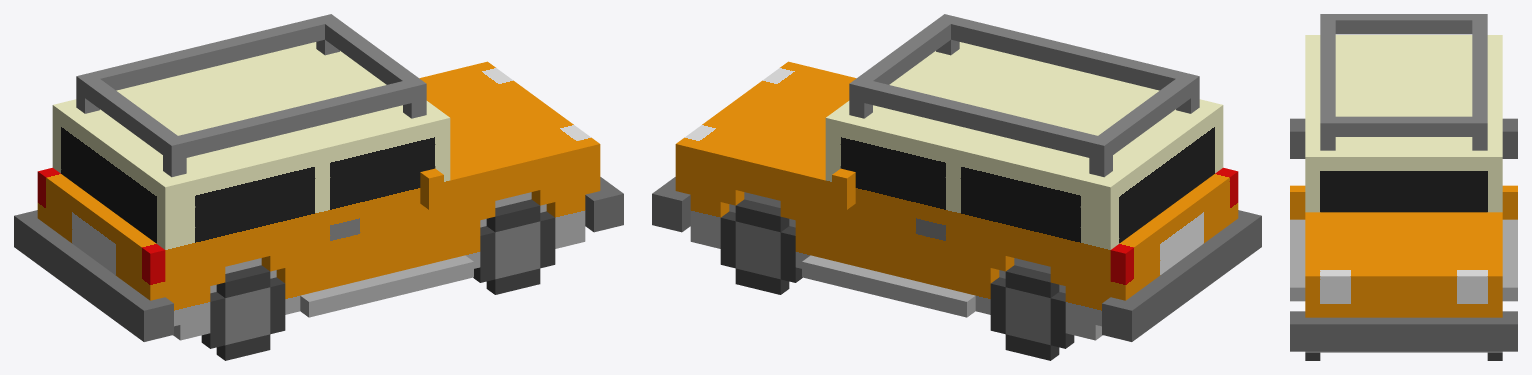
File: veh_suv3.fbx
3 renders of one model, left to right at view 1: azimuth 30°, elevation 25°; view 2: azimuth 150°, elevation 25°; view 3: azimuth 270°, elevation 25°, orthographic. The views are drawn at different scales.
Visible parts, largest first — view 1: veh_suv3; view 2: veh_suv3; view 3: veh_suv3.
Boxes of the visible parts, <box> form: veh_suv3: <box>14,14,623,360</box>; veh_suv3: <box>652,14,1261,360</box>; veh_suv3: <box>1290,14,1517,360</box>.
Bounding box in the file's own units: 3.2 × 1.5 × 1.4.
1 material, 1 textured.
